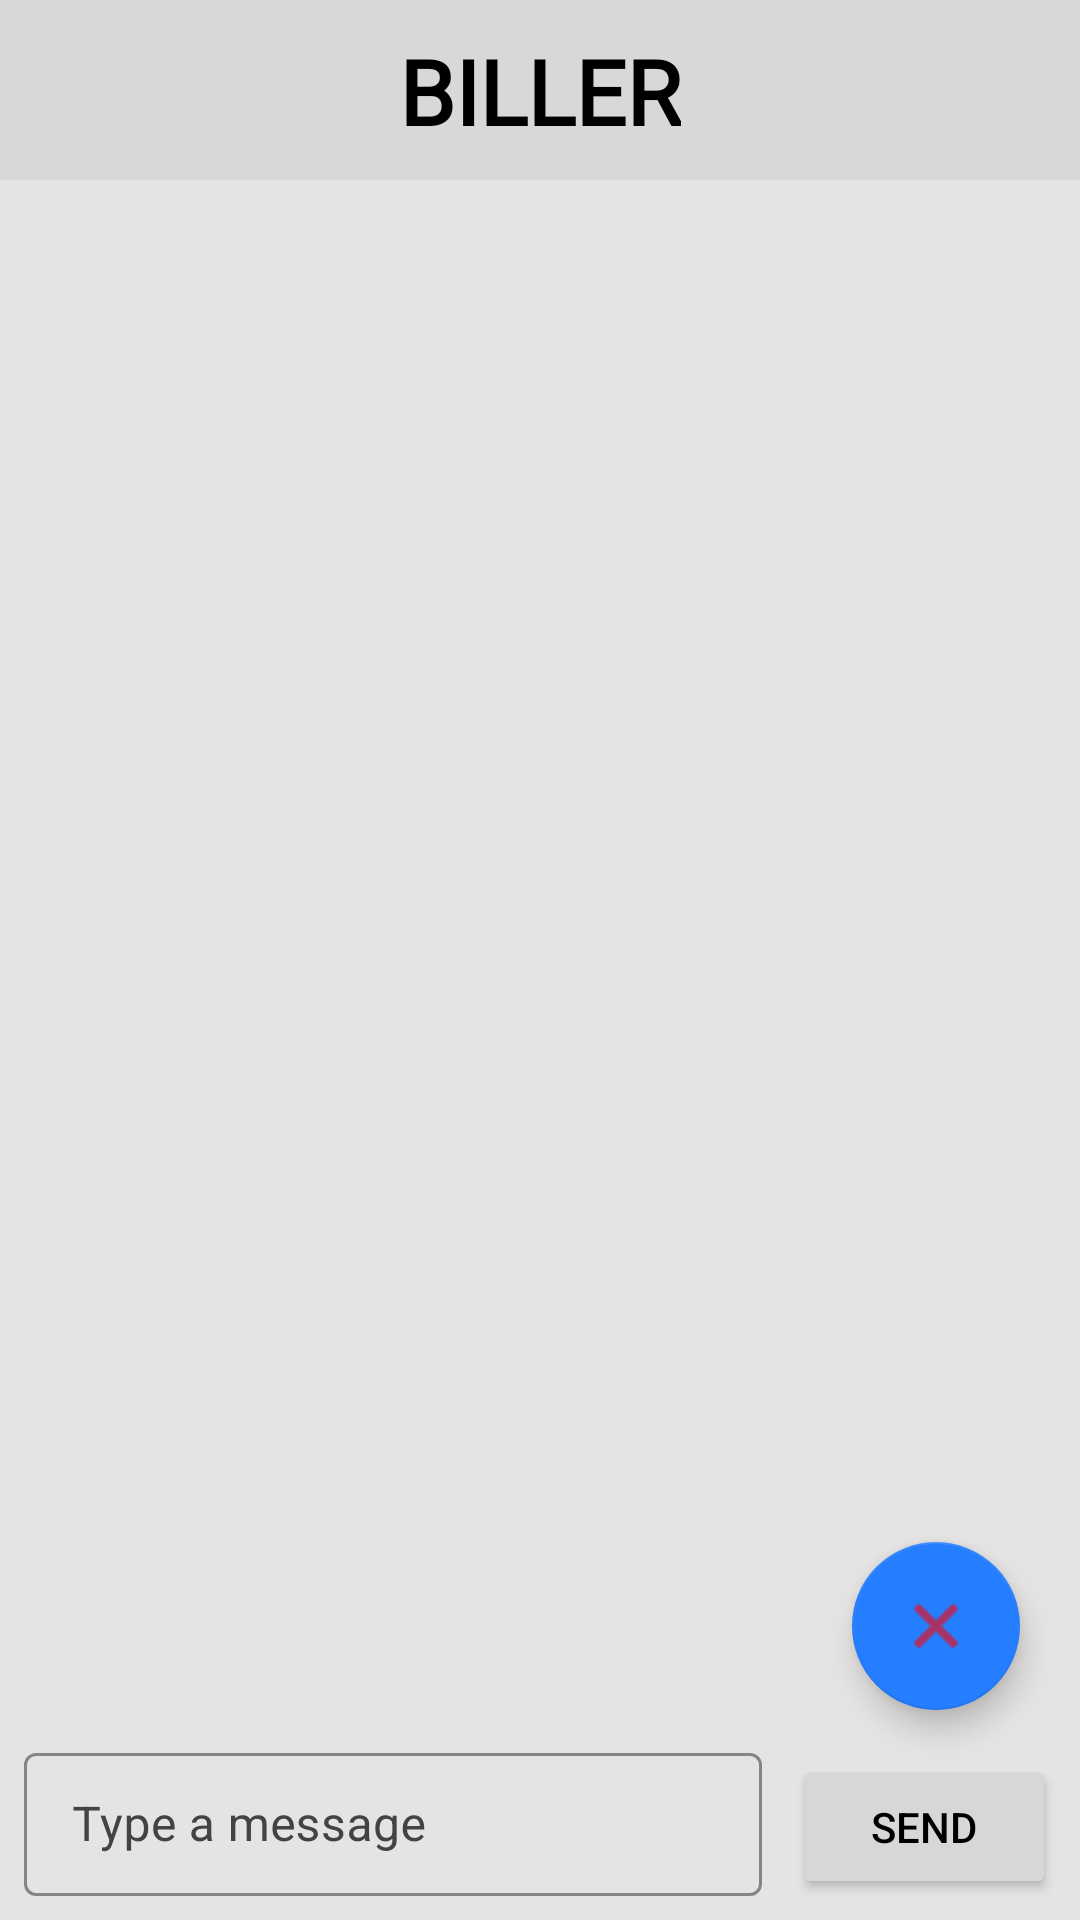

Icons on this 1080w x 1920h Android screen, each with its box as (x1, y1, x2, y2):
Clear Chat: (852, 1542, 1020, 1710)
